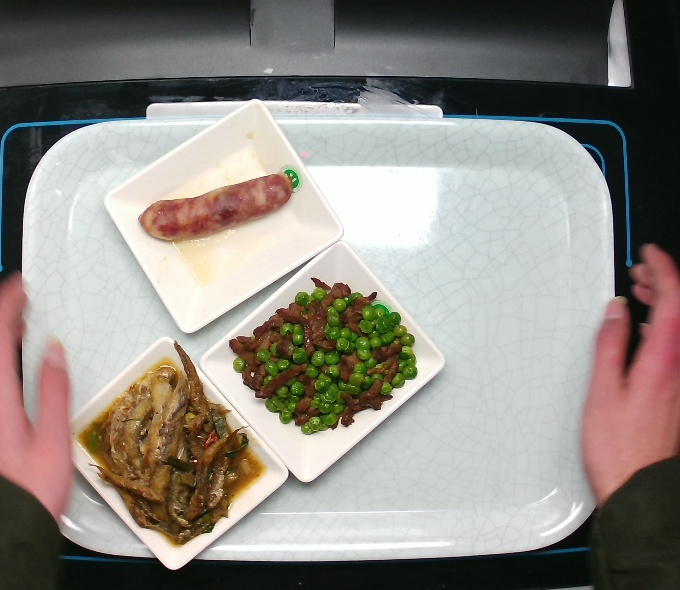wcq-CanDouNiuRou: (221, 273, 421, 441)
wcq-XiangChang: (127, 164, 295, 248)
wcq-XiaoJiYu: (81, 330, 264, 543)
